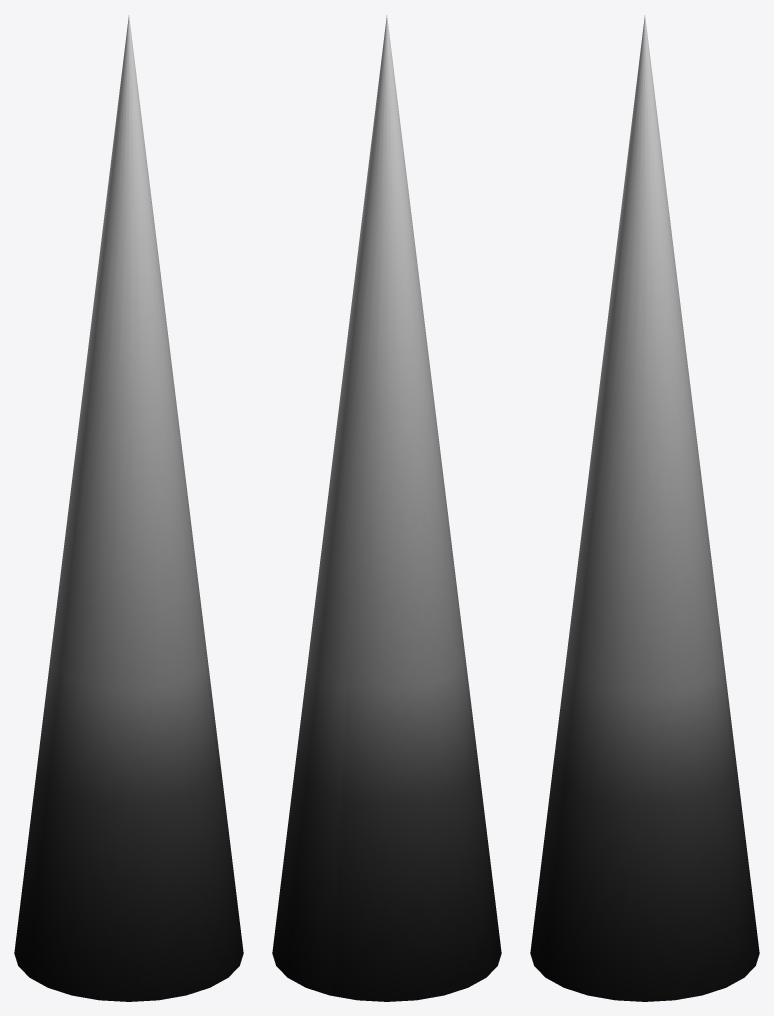
The model's file is cone phare.FBX.
3 views of the same model, side by side, from view 1: azimuth 30°, elevation 25°; view 2: azimuth 150°, elevation 25°; view 3: azimuth 270°, elevation 25° (orthographic).
Visible parts, largest first — view 1: Cone001; view 2: Cone001; view 3: Cone001.
Boxes of the visible parts, x1,y1,x2,y2 form: Cone001: [14, 15, 243, 1001]; Cone001: [272, 15, 501, 1001]; Cone001: [530, 15, 759, 1001].
Bounding box in the file's own units: 39.39 × 178 × 39.39.
Materials: 1 (1 with a texture image).
